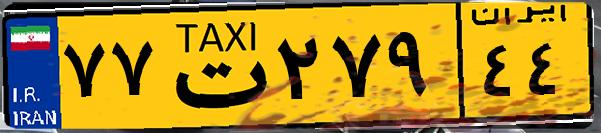2: (270, 28, 330, 110)
4: (475, 38, 525, 113), (525, 38, 570, 115)
7: (330, 28, 385, 110), (57, 26, 110, 100), (110, 28, 158, 98)
9: (385, 28, 445, 110)
ت: (158, 12, 270, 120)
